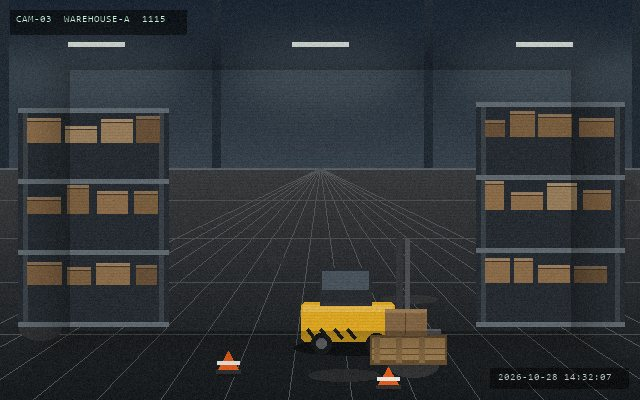cone: (215, 349, 241, 376), (375, 365, 401, 391)
forklift: (297, 236, 442, 355)
pallet: (368, 333, 448, 366)
shelf: (476, 102, 624, 322), (18, 108, 168, 322)
